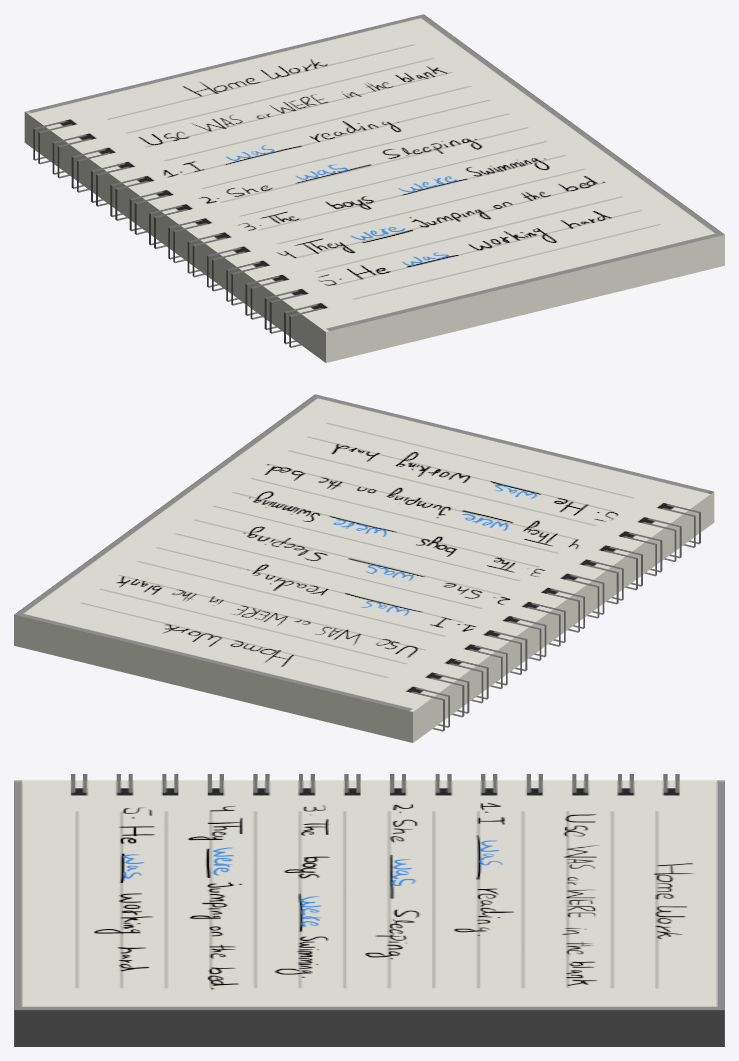
File: Notebook.fbx
3 renders of one model, top to bottom at view 1: azimuth 30°, elevation 25°; view 2: azimuth 150°, elevation 25°; view 3: azimuth 270°, elevation 25°, orthographic. The views are drawn at different scales.
Visible parts, largest first — view 1: Notebook; view 2: Notebook; view 3: Notebook.
Boxes of the visible parts, x1,y1,x2,y2 form: Notebook: (24,14,724,362); Notebook: (14,394,714,742); Notebook: (14,774,724,1046).
Bounding box in the file's own units: 34.04 × 2.47 × 43.32.
Materials: 1 (1 with a texture image).
